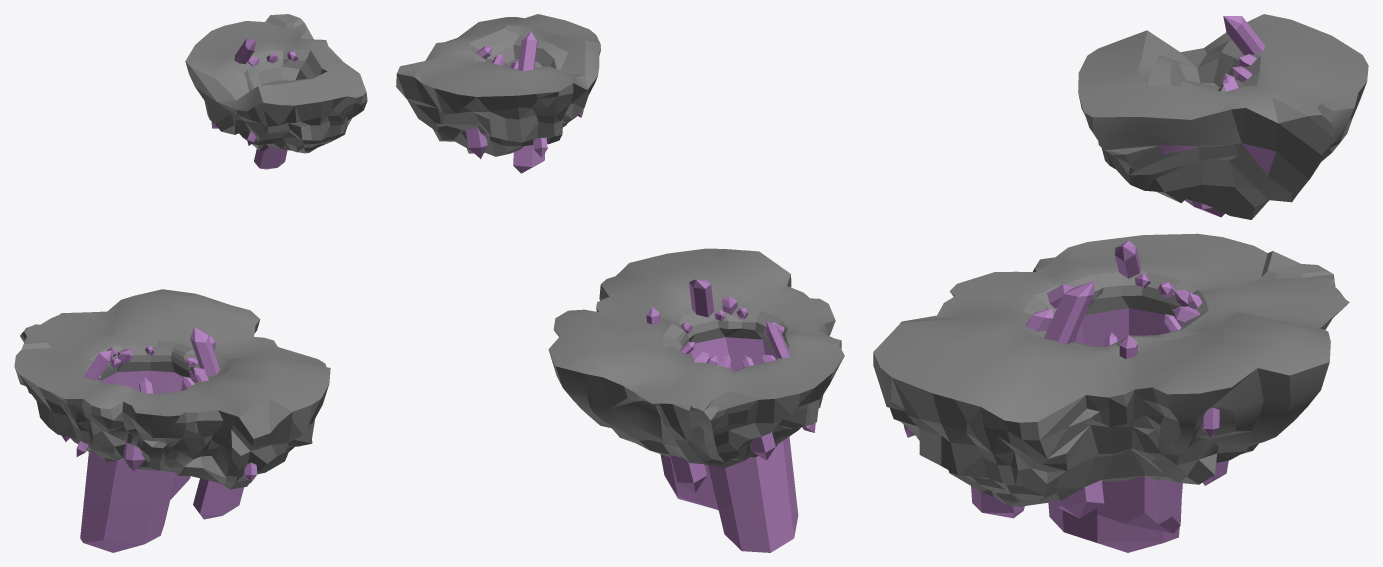
File: Island_Waterfall.fbx
3 views of the same model, side by side, from view 1: azimuth 30°, elevation 25°; view 2: azimuth 150°, elevation 25°; view 3: azimuth 270°, elevation 25° (orthographic). The views are drawn at different scales.
Visible parts, largest first — view 1: Cylinder003; view 2: Cylinder003; view 3: Cylinder003.
Part boxes in pixels (<box>): Cylinder003: <box>14,14,367,552</box>; Cylinder003: <box>396,14,844,552</box>; Cylinder003: <box>873,14,1368,552</box>.
Size of the model in its own units: 784 by 1013 by 685.
